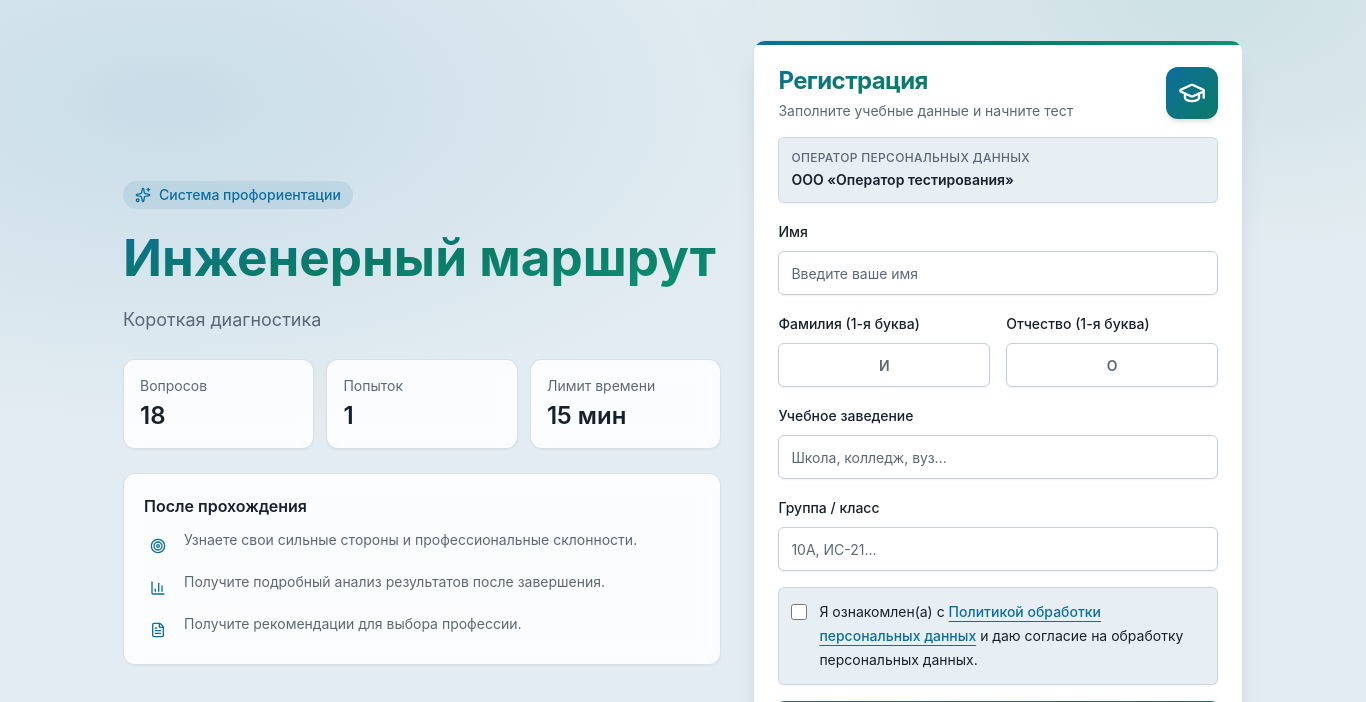
it: PublicTestEntryWorkspace › shows warning when Latin letters are entered in studentName and trims leading space (UX-17)
This screenshot has width=1366, height=702.
Type "Doaudit ДОАУДИТ" into the field labelled "Имя" at (998, 273), box [778,251,1218,295]
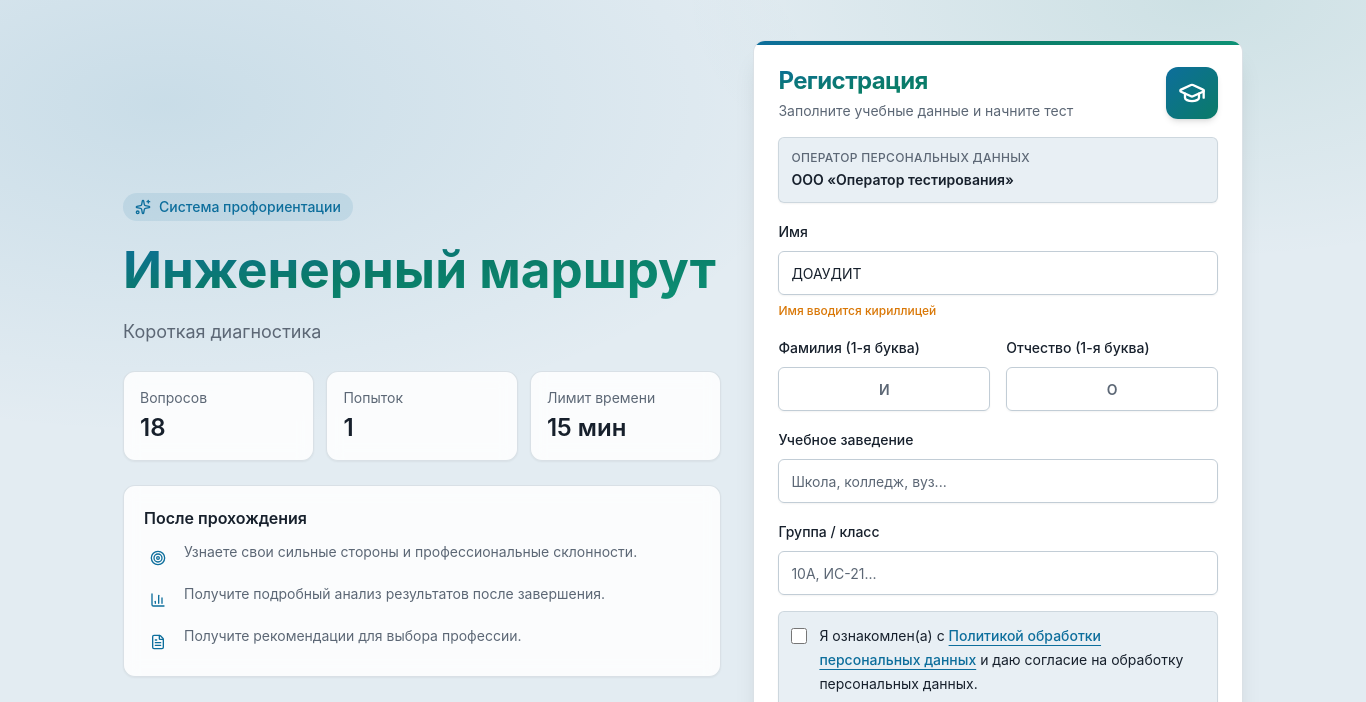
Check: the field labelled "Имя" holds "ДОАУДИТ"
Check: the text "Имя вводится кириллицей" is shown, box [778,303,936,318]
Replace the text in the field labelled "Имя" with "ИВАН" at (998, 273), box [778,251,1218,295]
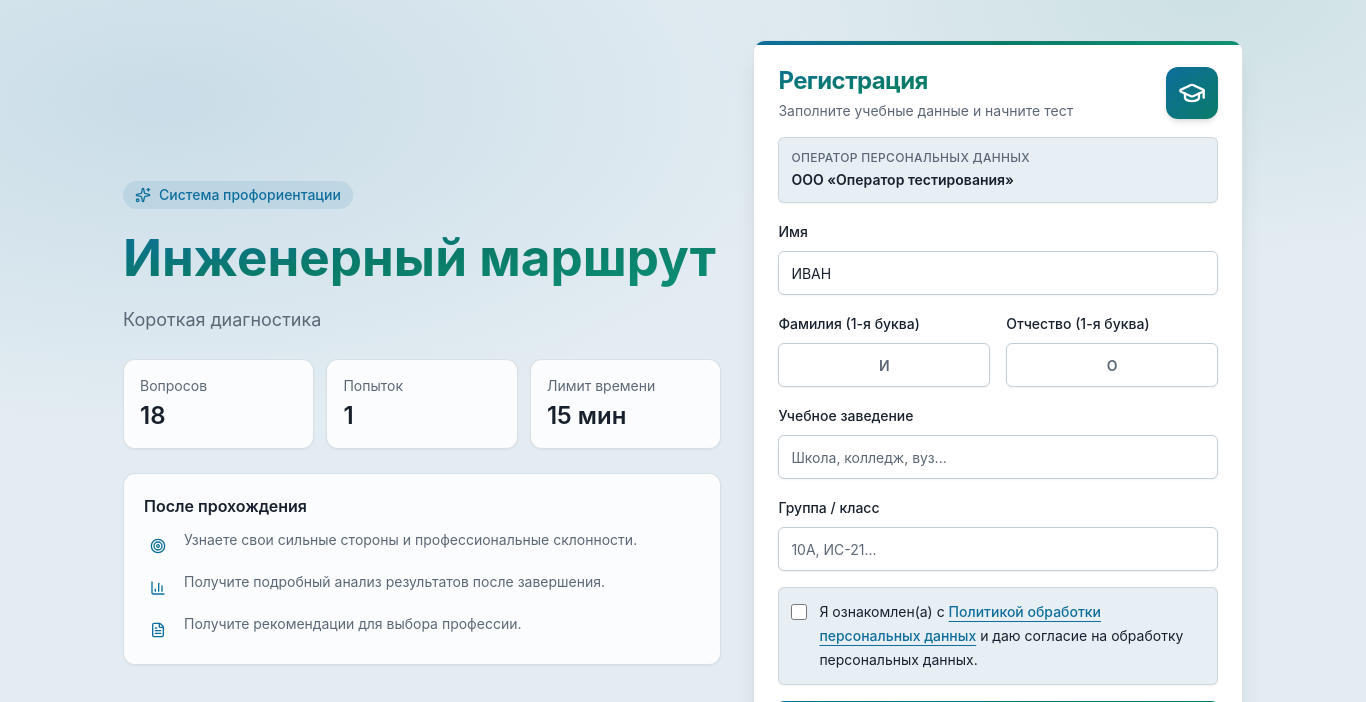
Check: the text "Имя вводится кириллицей" is gone
